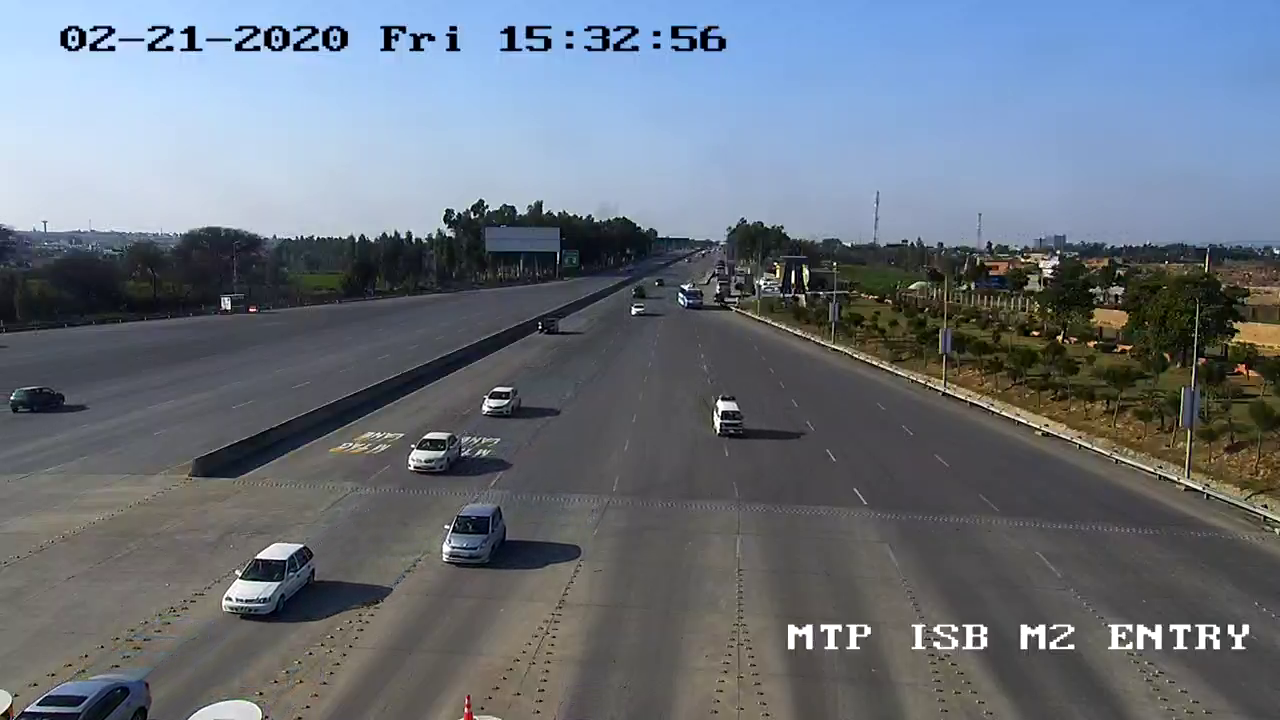f1: (217, 531, 322, 631), (423, 498, 515, 577), (400, 421, 468, 483), (700, 391, 755, 443), (475, 377, 523, 424)
